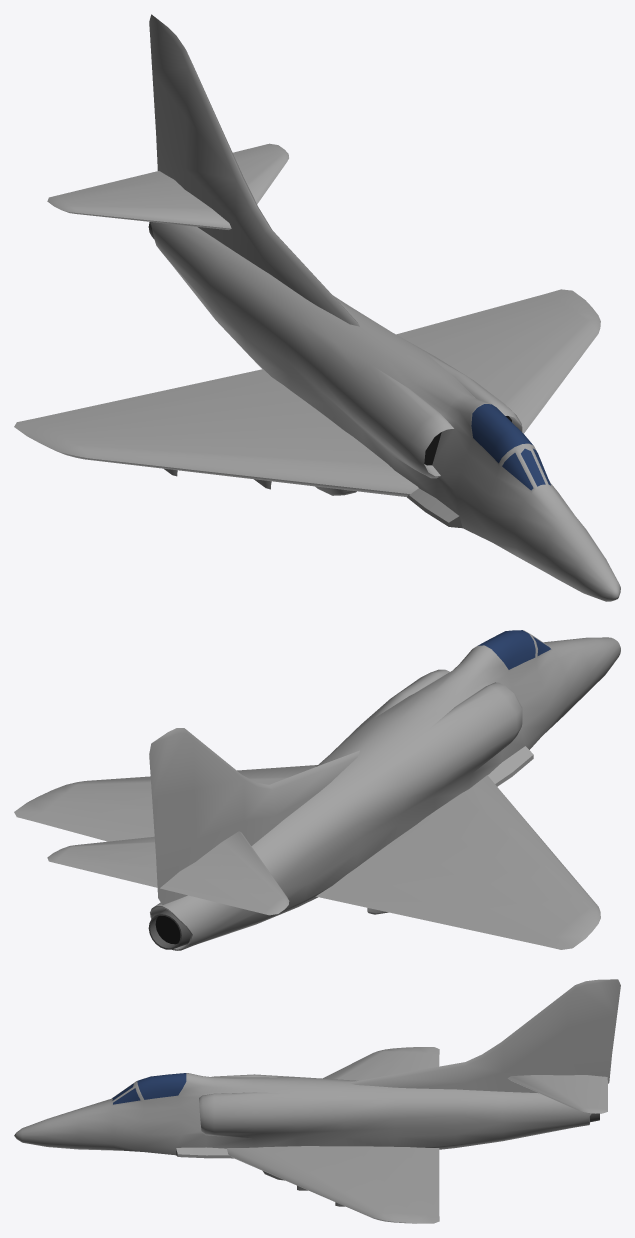
The model's file is A4E_SKYHAWK.glb.
3 views of the same model, one above another, from view 1: azimuth 30°, elevation 25°; view 2: azimuth 150°, elevation 25°; view 3: azimuth 270°, elevation 25° (orthographic). The views are drawn at different scales.
Parts seen in each view (by area): view 1: a4e_skyhawk; view 2: a4e_skyhawk; view 3: a4e_skyhawk.
Part boxes in pixels (x1,y1,x2,y2): a4e_skyhawk: [14, 14, 620, 601]; a4e_skyhawk: [14, 630, 620, 950]; a4e_skyhawk: [14, 979, 620, 1223].
Size of the model in its own units: 8.95 by 4.17 by 13.
